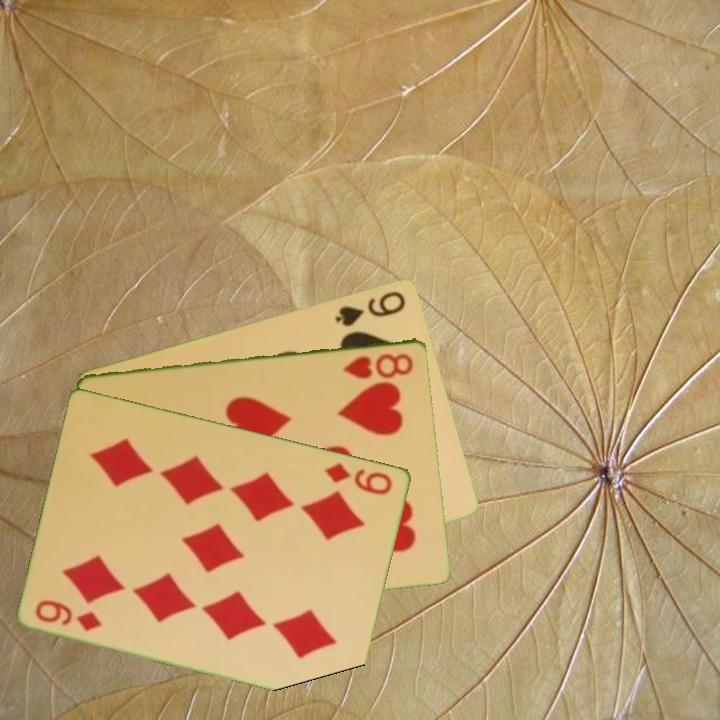8h: (340, 349, 417, 381)
9d: (322, 459, 396, 498), (32, 596, 105, 634)
9s: (332, 287, 409, 329)
